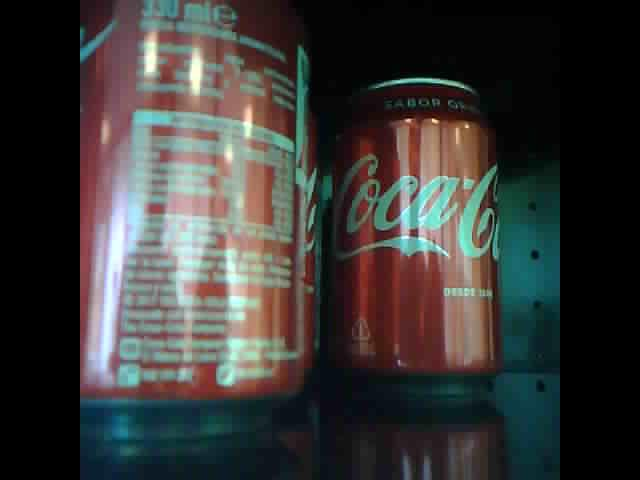coca cola: (79, 3, 327, 412), (332, 69, 503, 386)
